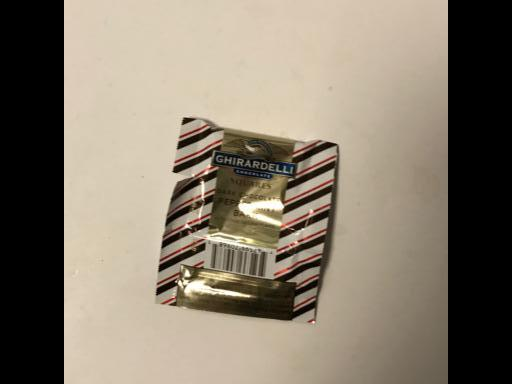metal: (155, 116, 338, 325)
trash: (155, 115, 338, 325)
